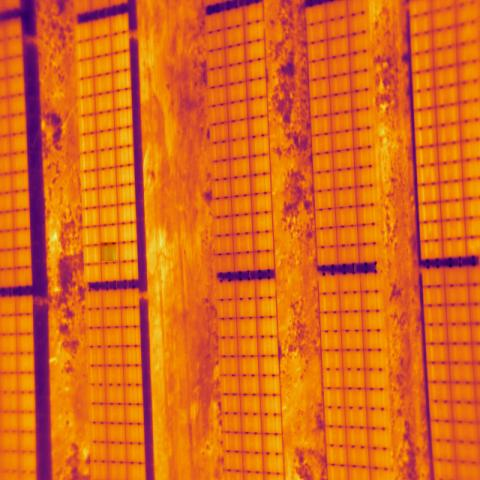fault: (101, 242, 116, 261)
